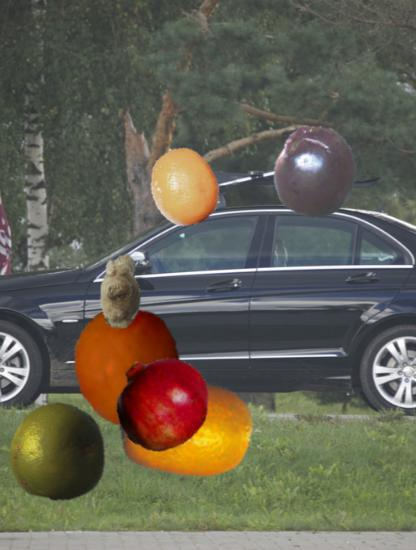Apricot: (67, 306, 190, 429)
Ginger: (82, 253, 159, 330)
Kumquats: (118, 360, 255, 497)
Lemon: (144, 147, 223, 226)
Passion: (269, 124, 363, 218)
Pomegranate: (113, 354, 210, 451)
Pomelo: (9, 401, 110, 502)
